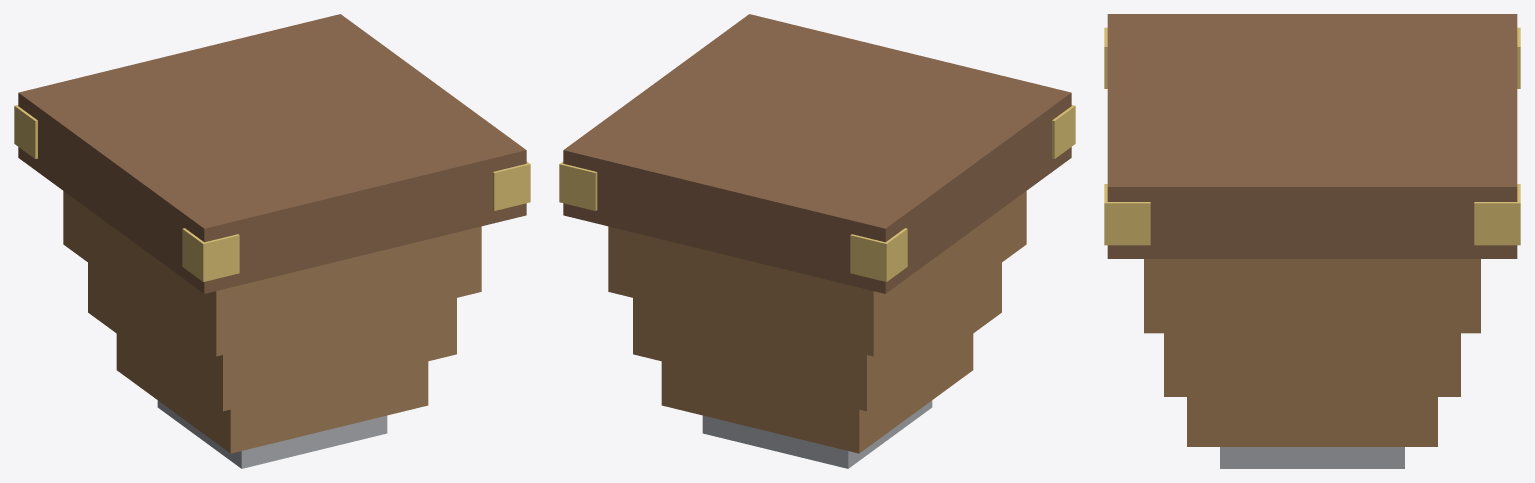
File: perna_de_pau.glb
3 views of the same model, side by side, from view 1: azimuth 30°, elevation 25°; view 2: azimuth 150°, elevation 25°; view 3: azimuth 270°, elevation 25° (orthographic). The views are drawn at different scales.
Visible parts, largest first — view 1: perna_de_pau; view 2: perna_de_pau; view 3: perna_de_pau.
Boxes of the visible parts, <box> form: perna_de_pau: <box>14,14,530,468</box>; perna_de_pau: <box>559,14,1075,468</box>; perna_de_pau: <box>1104,14,1520,468</box>.
Bounding box in the file's own units: 0.315 × 0.275 × 0.315.
